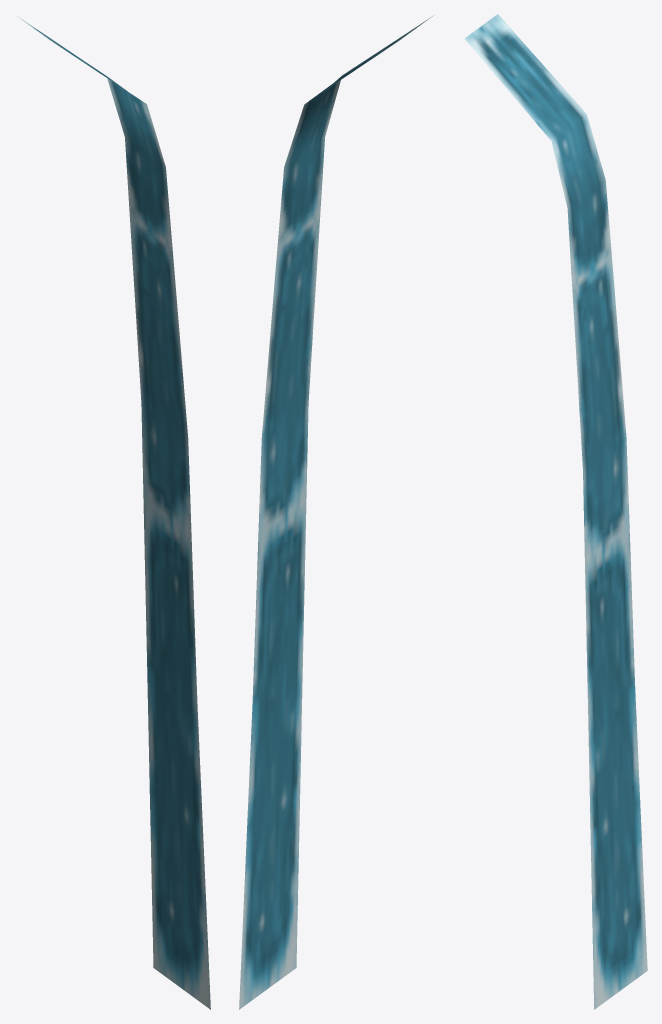
The model's file is waterTraproom.fbx.
3 views of the same model, side by side, from view 1: azimuth 30°, elevation 25°; view 2: azimuth 150°, elevation 25°; view 3: azimuth 330°, elevation 25° (orthographic). The views are drawn at different scales.
Parts seen in each view (by area): view 1: pPlane2.001; view 2: pPlane2.001; view 3: pPlane2.001.
Part boxes in pixels (x1=…): pPlane2.001: x1=17, y1=16, x2=210, y2=1009; pPlane2.001: x1=239, y1=15, x2=433, y2=1009; pPlane2.001: x1=464, y1=14, x2=647, y2=1009.
Bounding box in the file's own units: 78.57 × 499 × 52.08.
